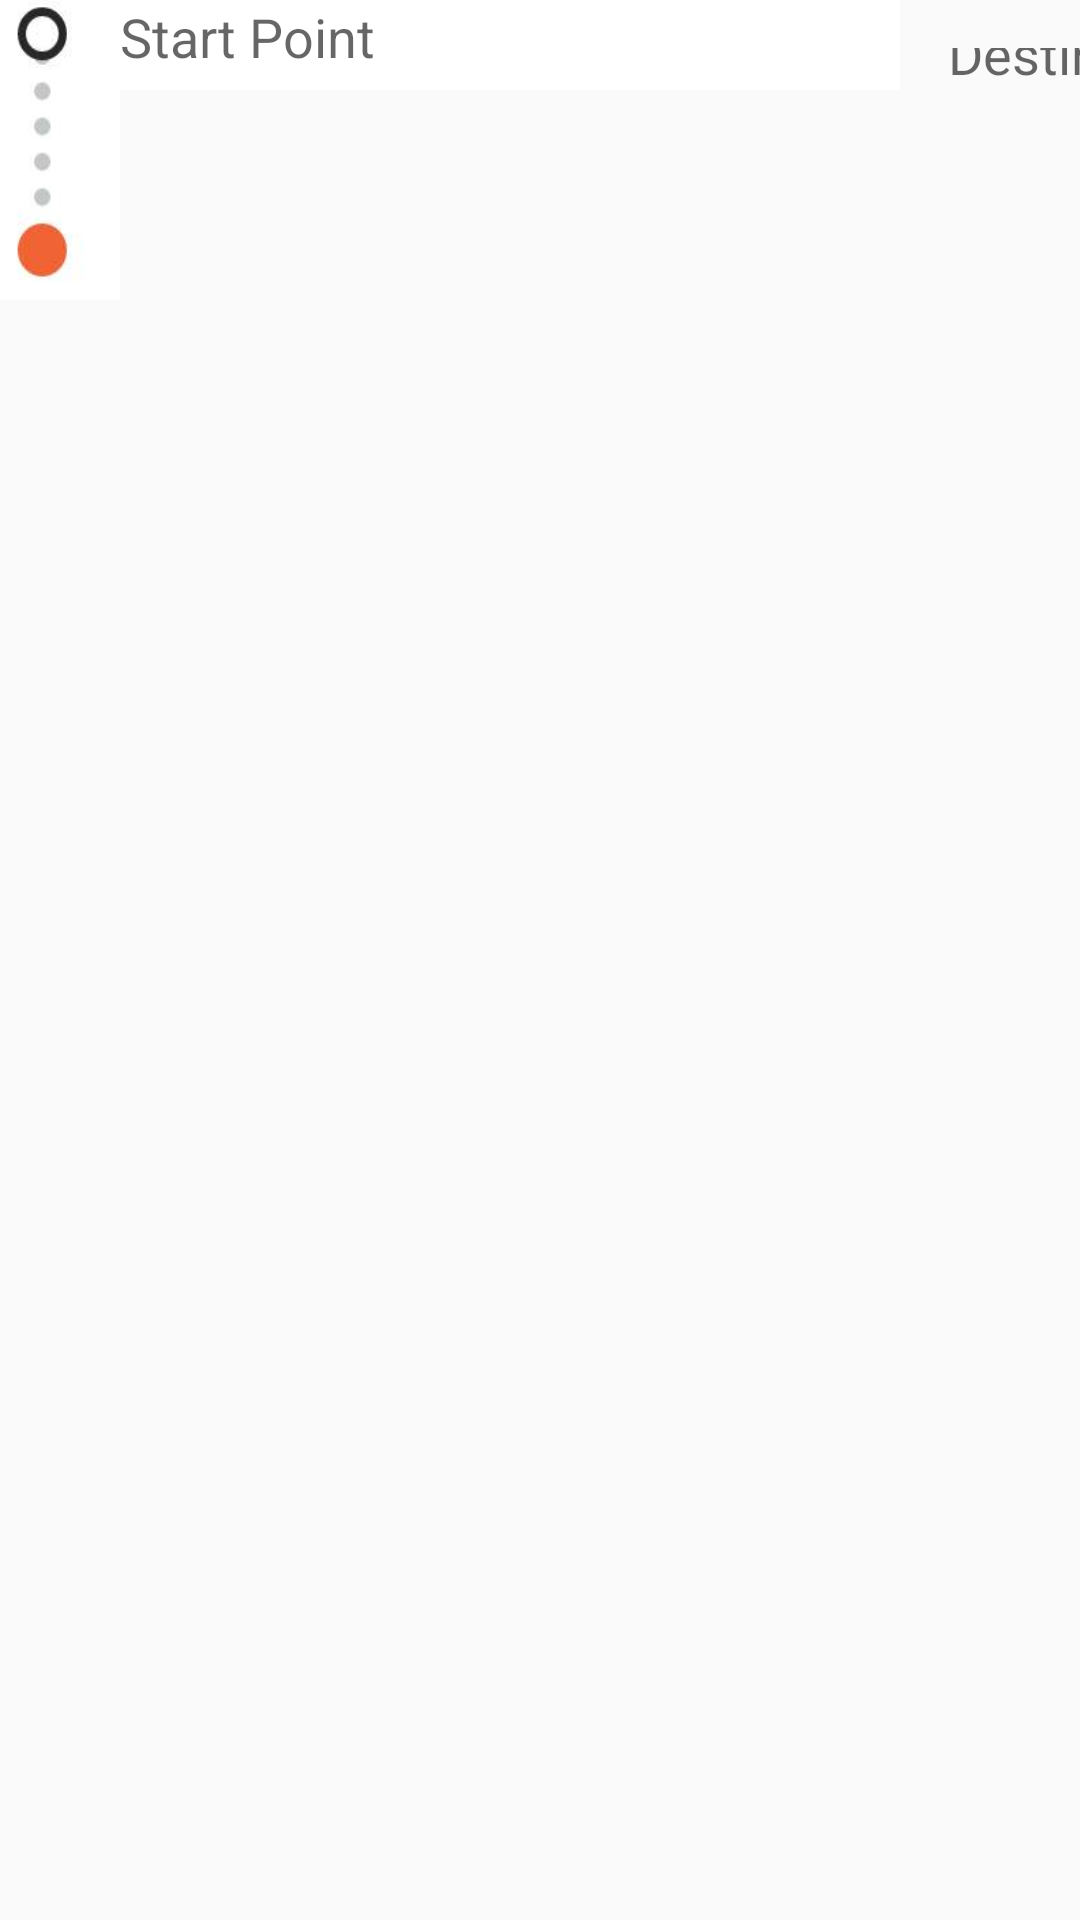

Screen size 1080 × 1920. Icon name, then its box in pixels as (x1, y1, x2, y2):
navigation dots: (17, 7, 68, 278)
